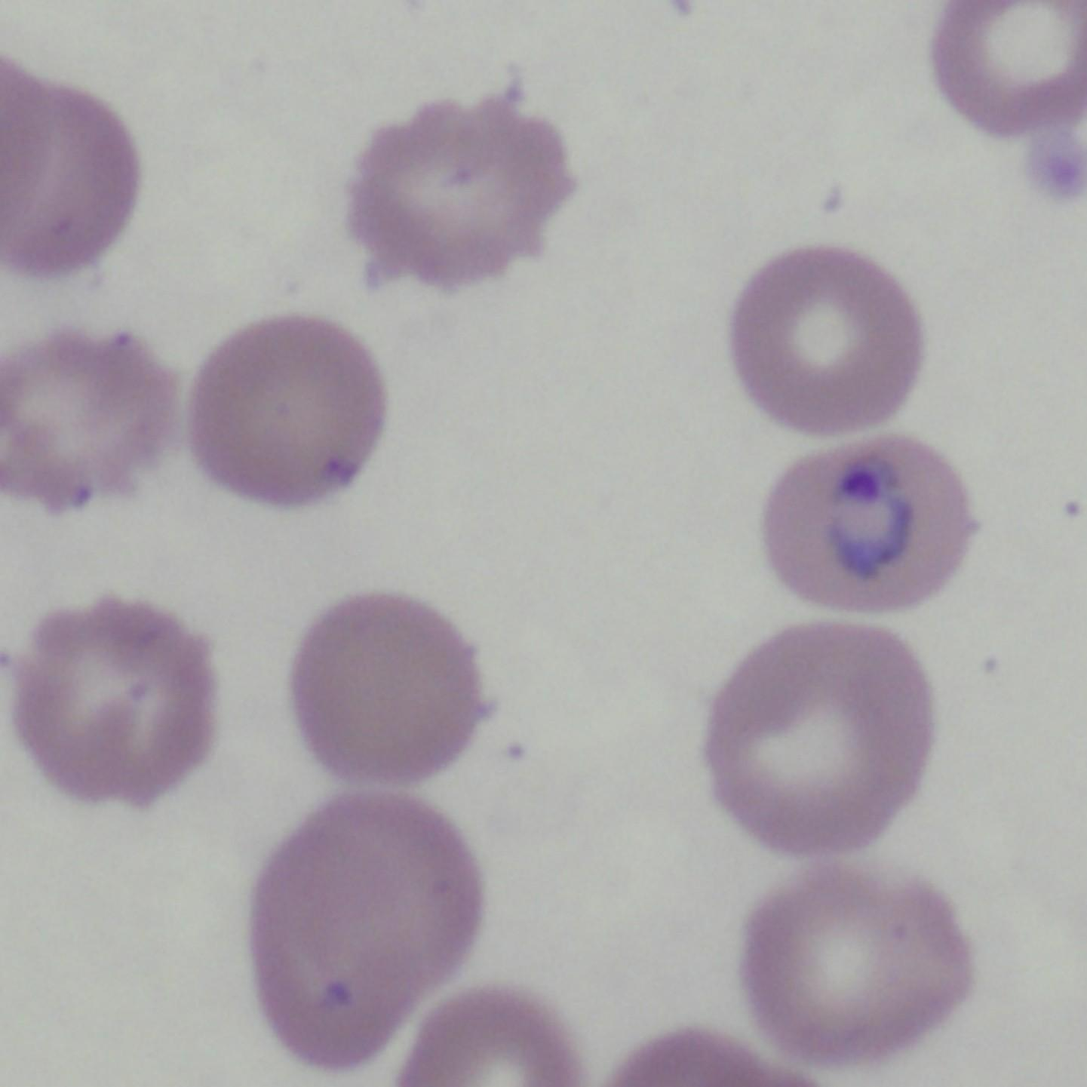Infected: (112, 470, 326, 649)
Uninfected: (607, 17, 840, 289), (151, 235, 376, 462), (115, 20, 349, 223), (514, 797, 740, 996), (873, 280, 1073, 487), (704, 582, 898, 772), (163, 656, 355, 840), (609, 305, 793, 488), (910, 579, 1085, 754)
